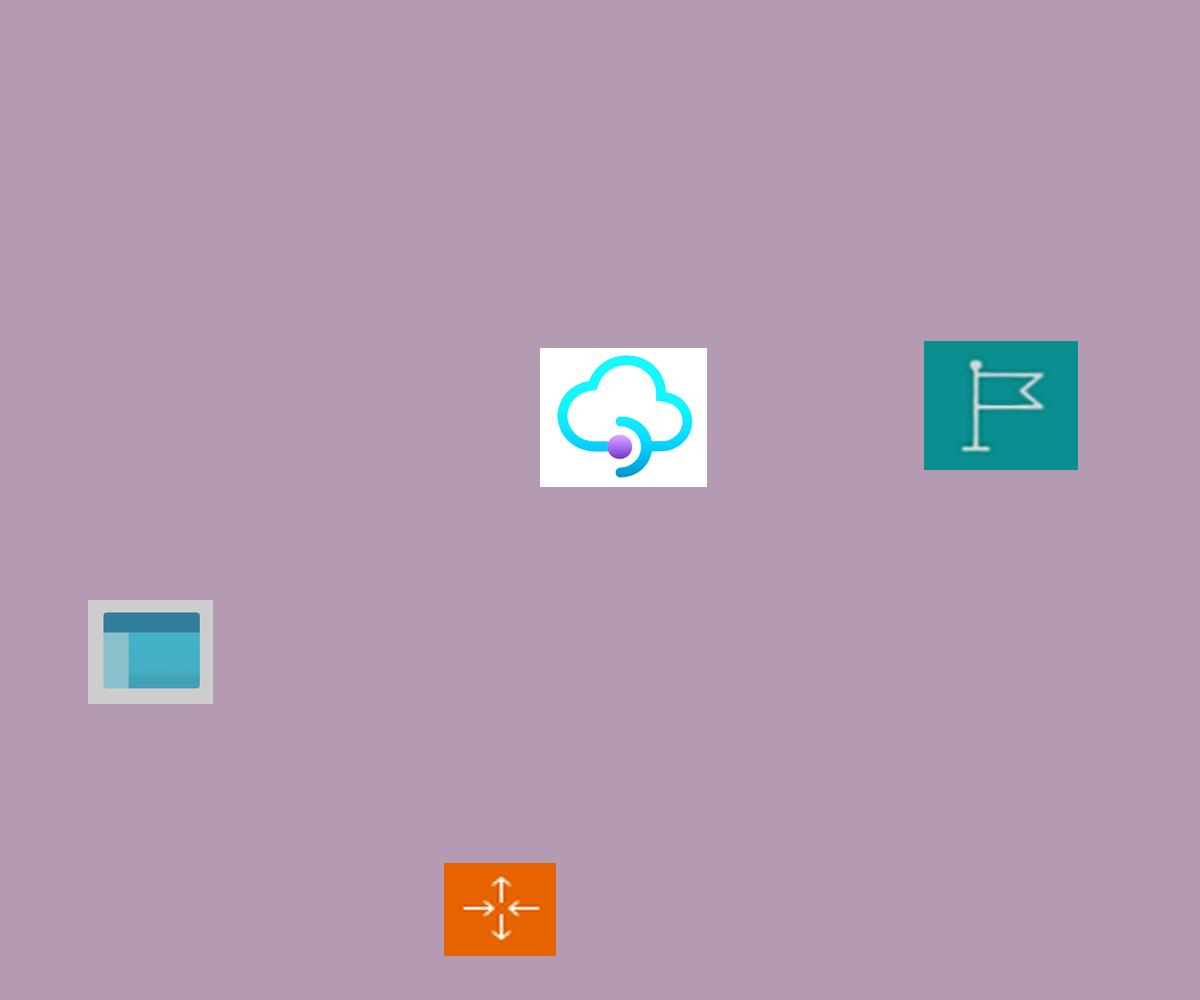AWS-Region: (924, 341, 1078, 470)
AWS-Scaling-group: (444, 863, 556, 956)
Azure_api_gateway: (540, 348, 707, 487)
Azure_management-portal: (88, 600, 213, 704)
